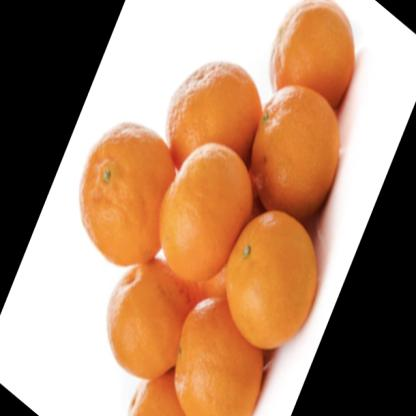fresh: (83, 2, 354, 416)
